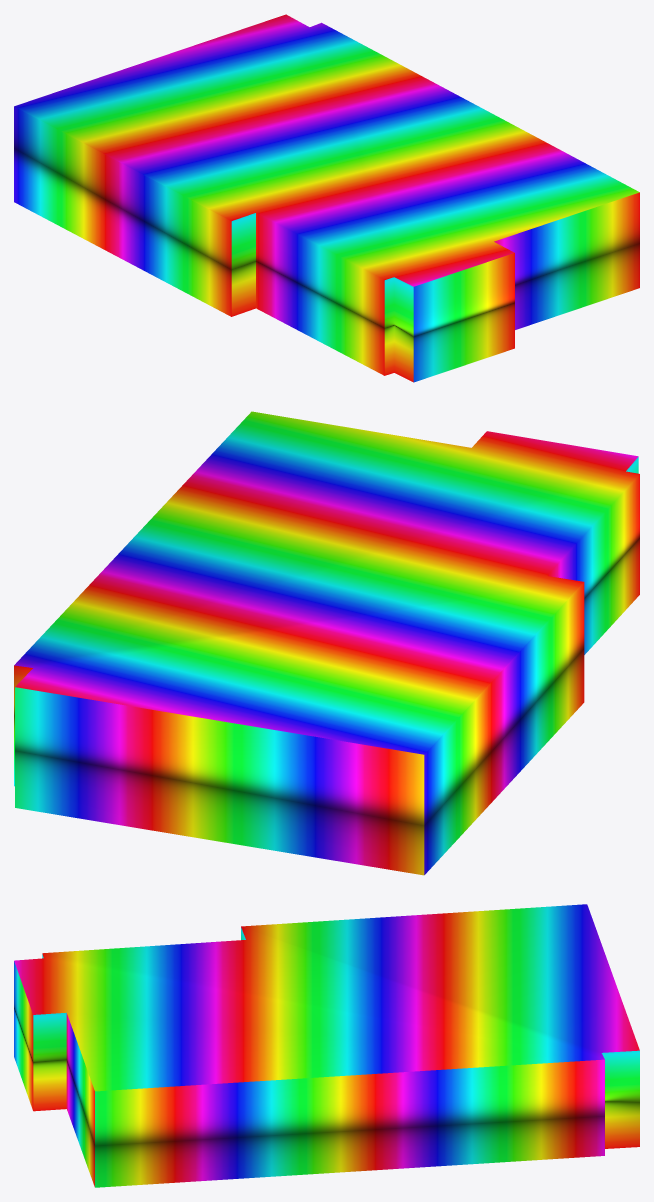
File: piece_rainbow.fbx
3 renders of one model, top to bottom at view 1: azimuth 30°, elevation 25°; view 2: azimuth 150°, elevation 25°; view 3: azimuth 270°, elevation 25°, orthographic. The views are drawn at different scales.
Parts seen in each view (by area): view 1: BLD_cea1f569-49e0-4c33-80f7-19019b62e5c9; view 2: BLD_cea1f569-49e0-4c33-80f7-19019b62e5c9; view 3: BLD_cea1f569-49e0-4c33-80f7-19019b62e5c9.
Boxes of the visible parts, box(x1,y1,x2,y2) form: BLD_cea1f569-49e0-4c33-80f7-19019b62e5c9: box(14, 14, 639, 382); BLD_cea1f569-49e0-4c33-80f7-19019b62e5c9: box(14, 411, 639, 875); BLD_cea1f569-49e0-4c33-80f7-19019b62e5c9: box(14, 904, 639, 1187).
Bounding box in the file's own units: 25.2 × 6.04 × 35.59.
1 material, 1 textured.
